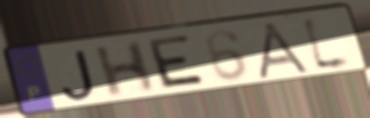6: (203, 28, 252, 84)
A: (255, 20, 316, 81)
E: (147, 33, 210, 91)
H: (92, 39, 158, 101)
J: (59, 48, 99, 102)
L: (299, 13, 360, 75)
